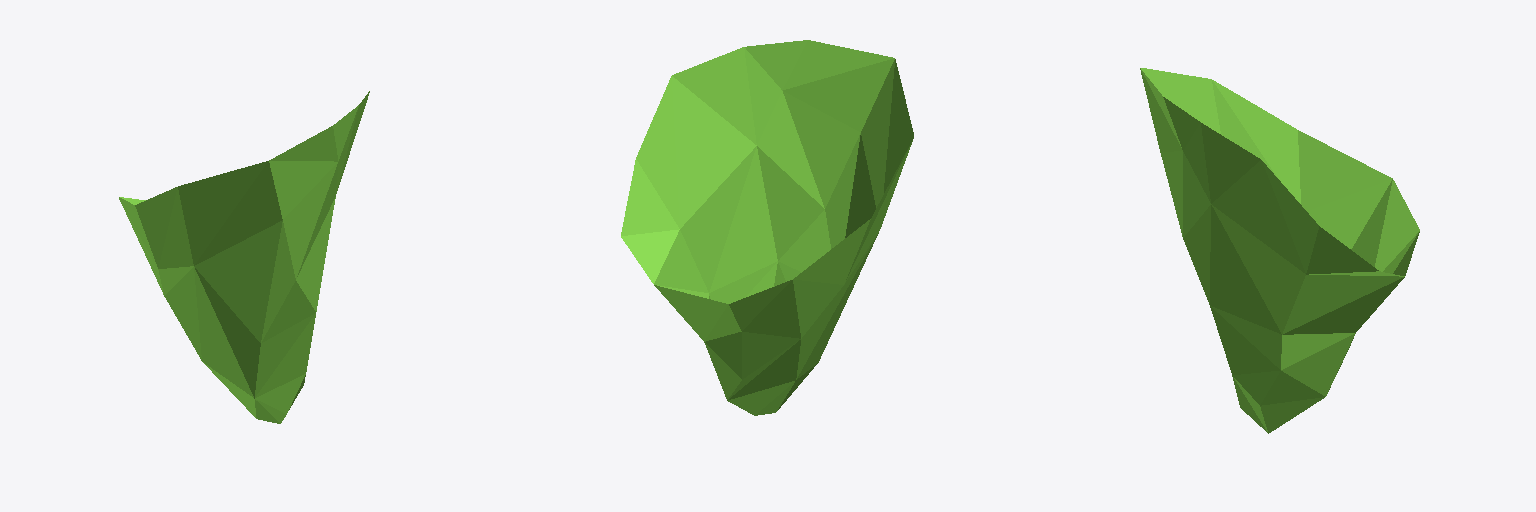
Rendered from Stalagmite_Fragment2.obj.
3 renders of one model, left to right at view 1: azimuth 30°, elevation 25°; view 2: azimuth 150°, elevation 25°; view 3: azimuth 270°, elevation 25°, orthographic.
Visible parts, largest first — view 1: Stalagmite_Fragment2; view 2: Stalagmite_Fragment2; view 3: Stalagmite_Fragment2.
Boxes of the visible parts, x1,y1,x2,y2 form: Stalagmite_Fragment2: [119, 91, 369, 423]; Stalagmite_Fragment2: [621, 40, 913, 415]; Stalagmite_Fragment2: [1140, 68, 1419, 433].
Bounding box in the file's own units: 1 × 1.44 × 1.08.